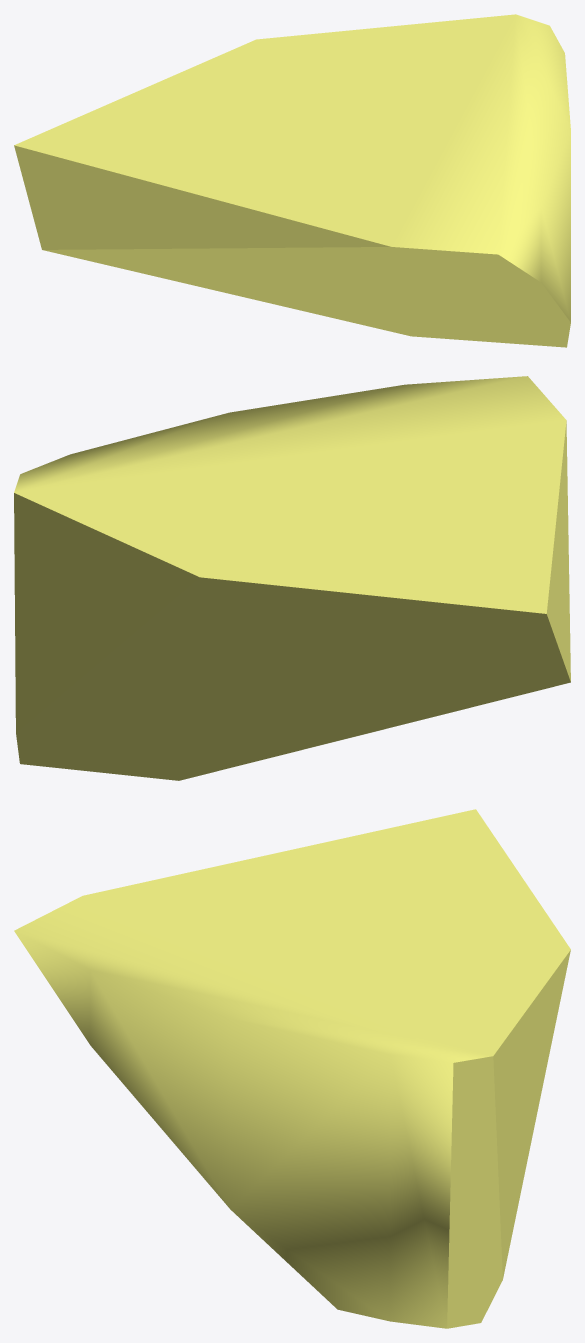
Rendered from breakableCenter_cell_009.fbx.
The picture shows the model from 3 angles, top to bottom: view 1: azimuth 30°, elevation 25°; view 2: azimuth 150°, elevation 25°; view 3: azimuth 270°, elevation 25°; orthographic projection. The views are drawn at different scales.
Parts seen in each view (by area): view 1: breakableCenter_cell.009; view 2: breakableCenter_cell.009; view 3: breakableCenter_cell.009.
Part boxes in pixels (x1,y1,x2,y2): breakableCenter_cell.009: (14, 14, 570, 347); breakableCenter_cell.009: (14, 376, 570, 780); breakableCenter_cell.009: (14, 809, 570, 1328).
Bounding box in the file's own units: 28.85 × 14.14 × 26.77.
